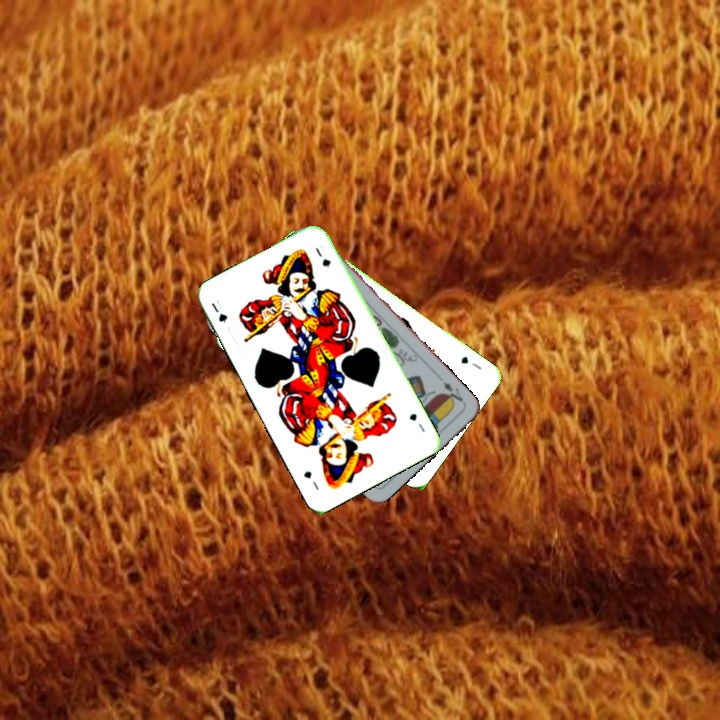EA: (439, 377, 467, 408)
GU: (207, 296, 230, 325), (405, 409, 428, 435), (457, 352, 484, 372)
